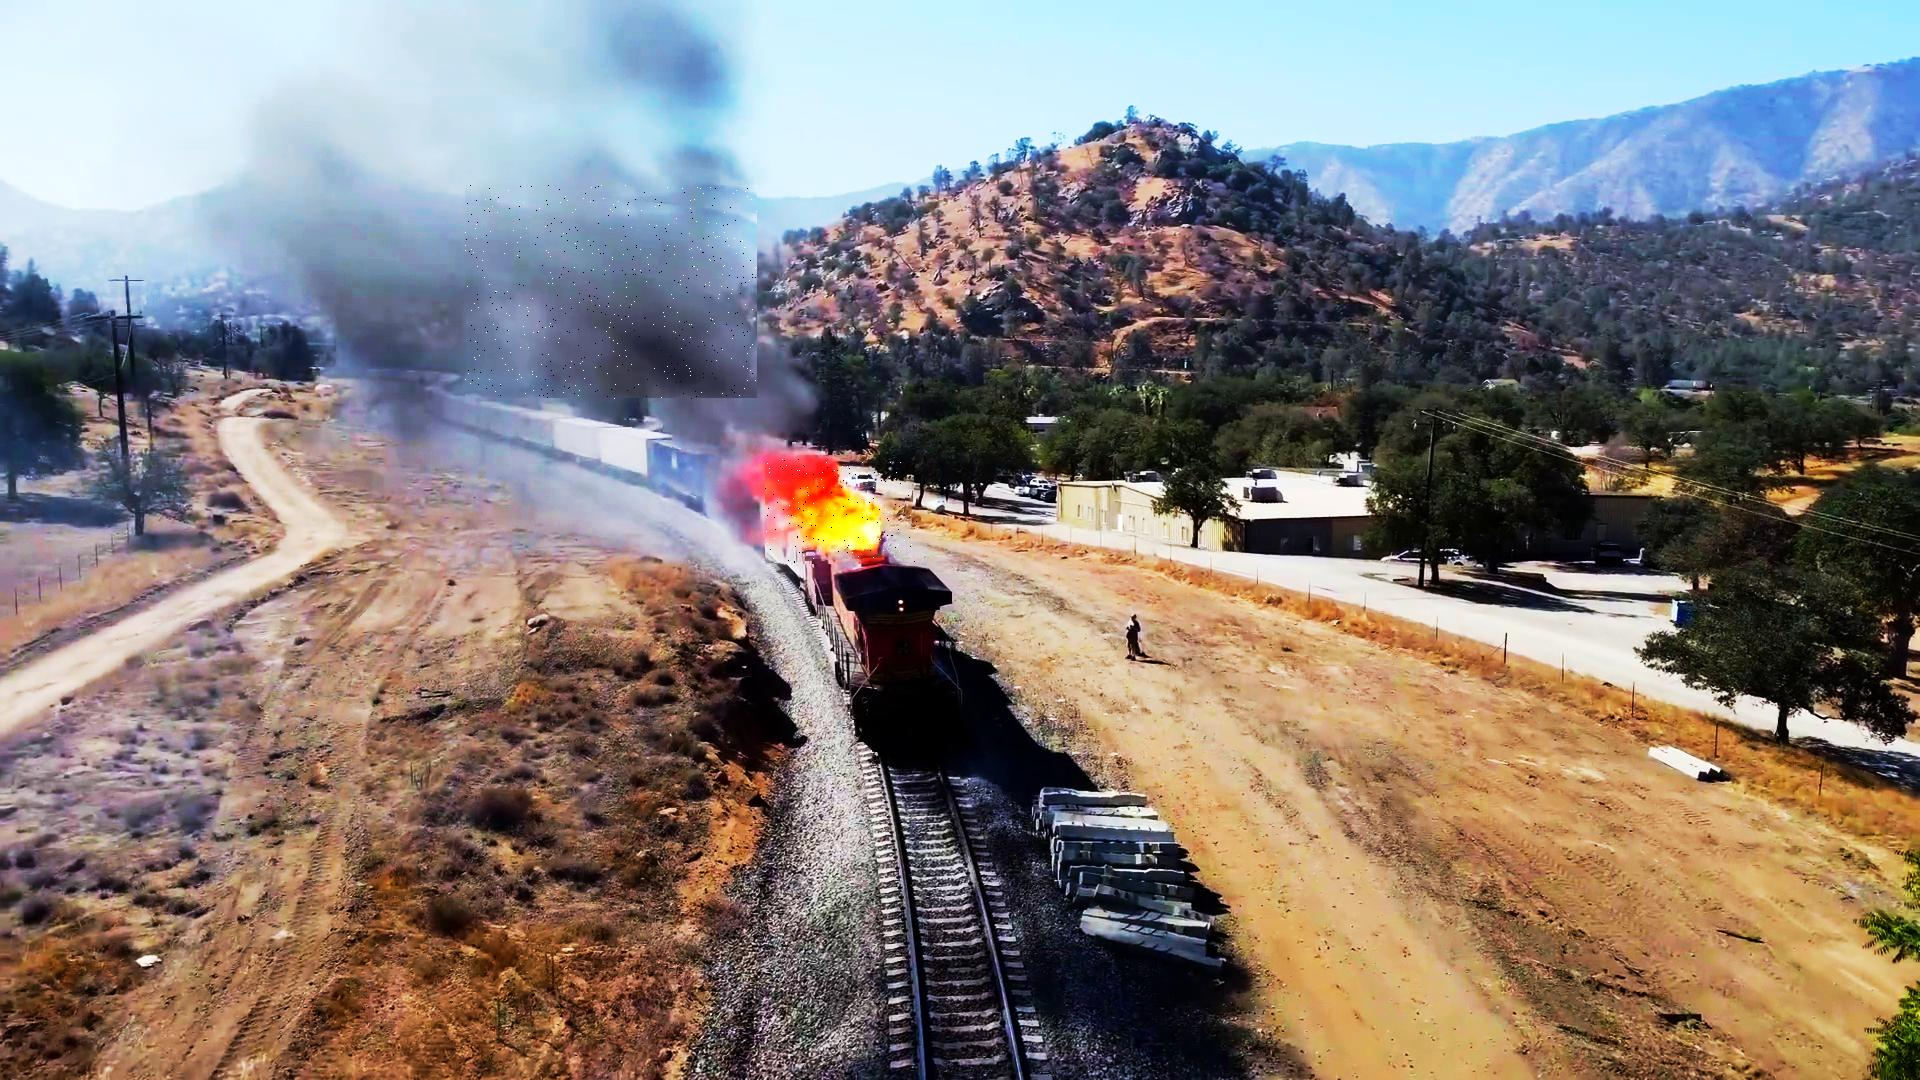fire: (766, 455, 919, 564)
smoke: (465, 186, 757, 401)
